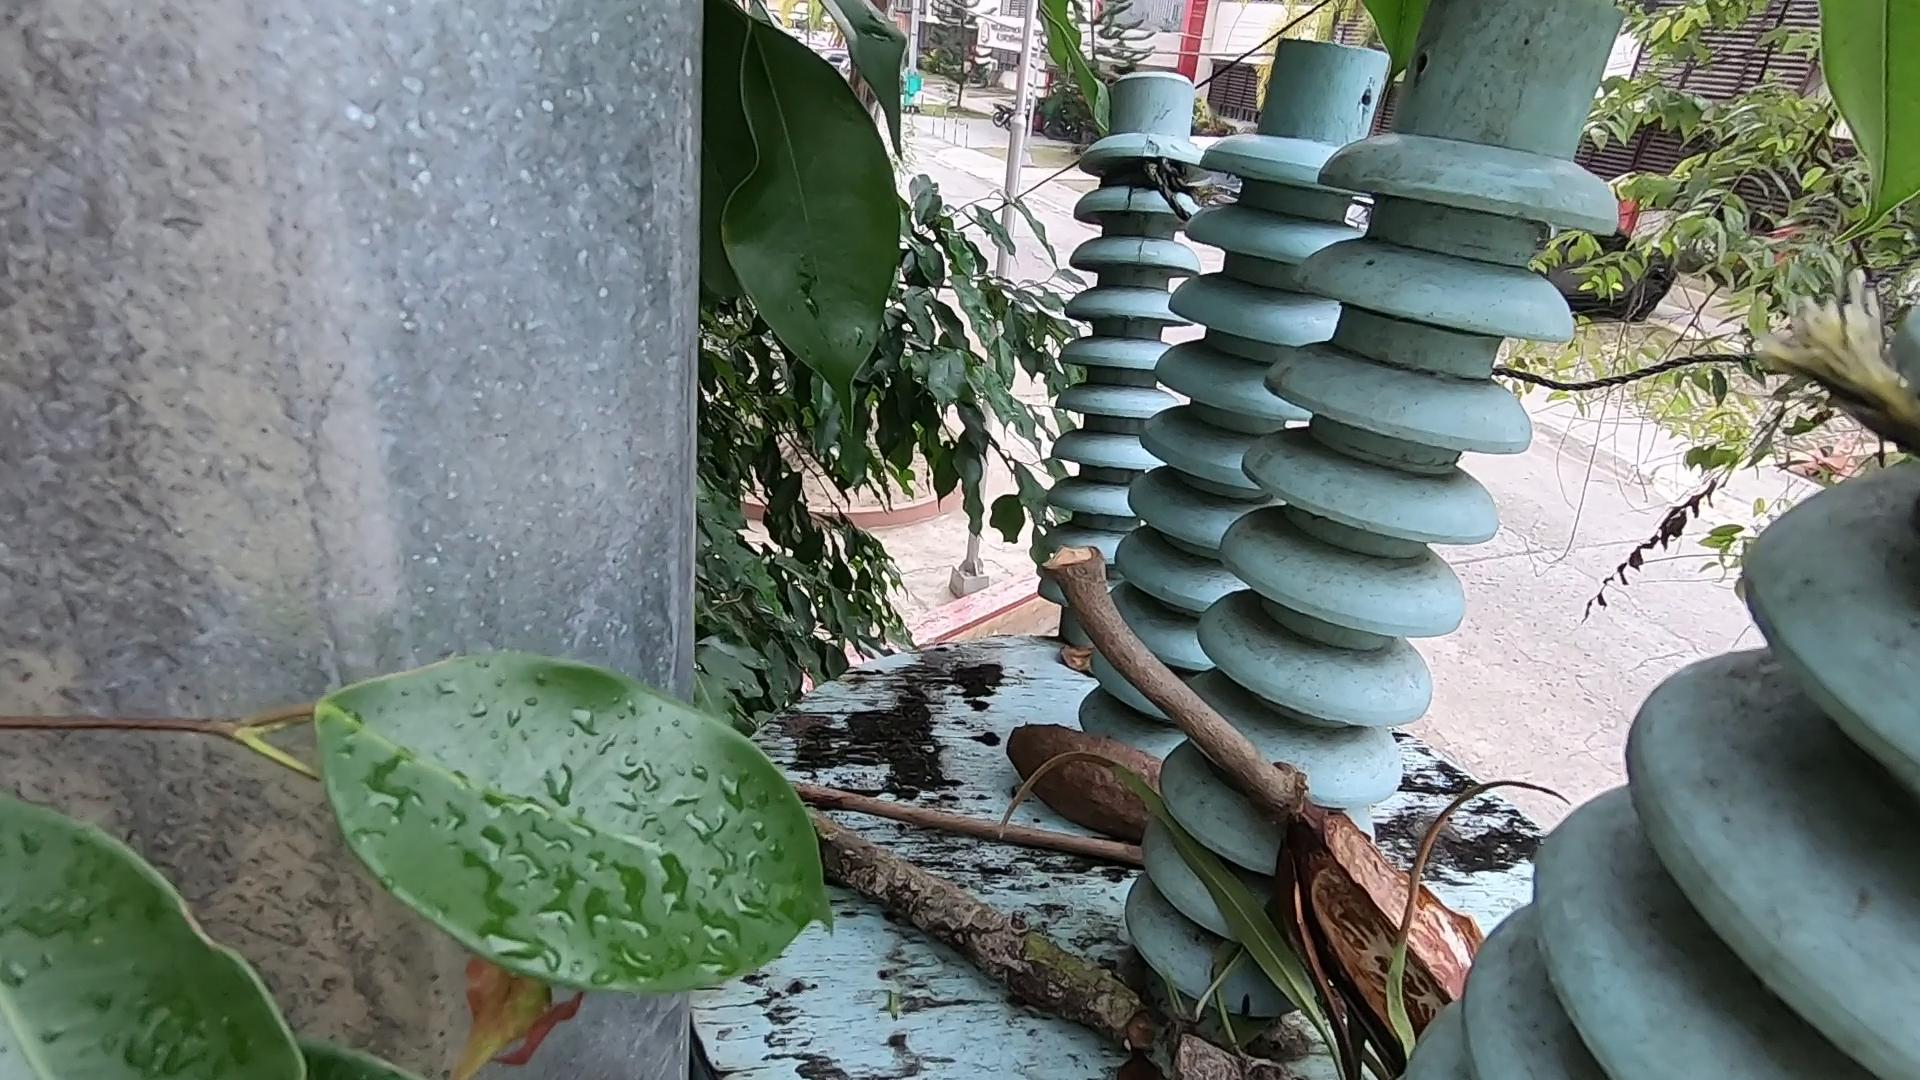branch with leaves: (810, 823, 1228, 1080)
leaf: (1065, 756, 1371, 1080)
mahogany fruit: (1287, 807, 1495, 1038), (978, 703, 1160, 878)
tree branch: (1064, 549, 1309, 824), (796, 782, 1147, 862)
